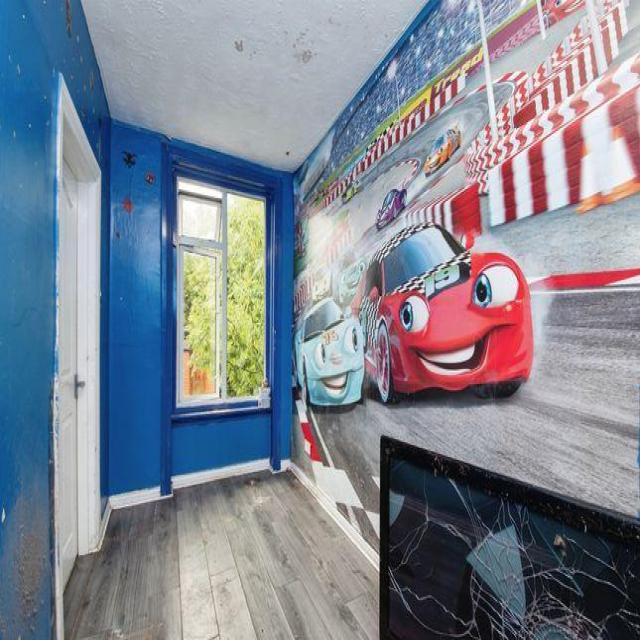Wall: (276, 0, 640, 547), (0, 0, 110, 638), (108, 122, 271, 495), (83, 1, 425, 172), (64, 473, 377, 639)
